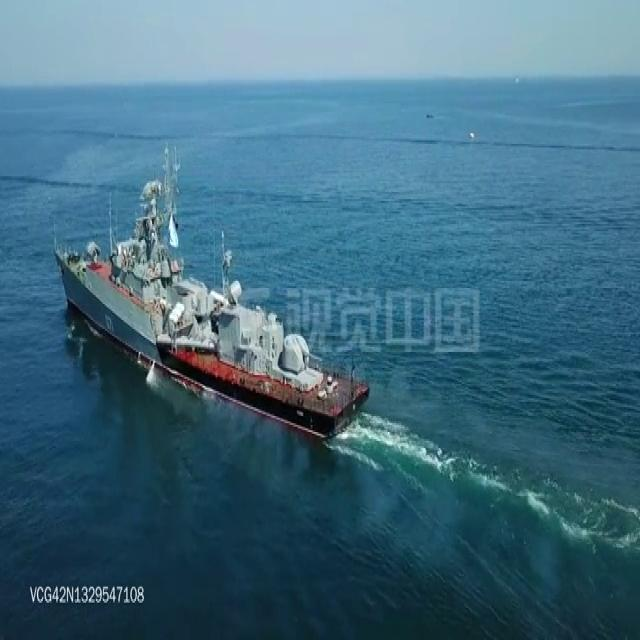navalvessels: (48, 156, 370, 437)
